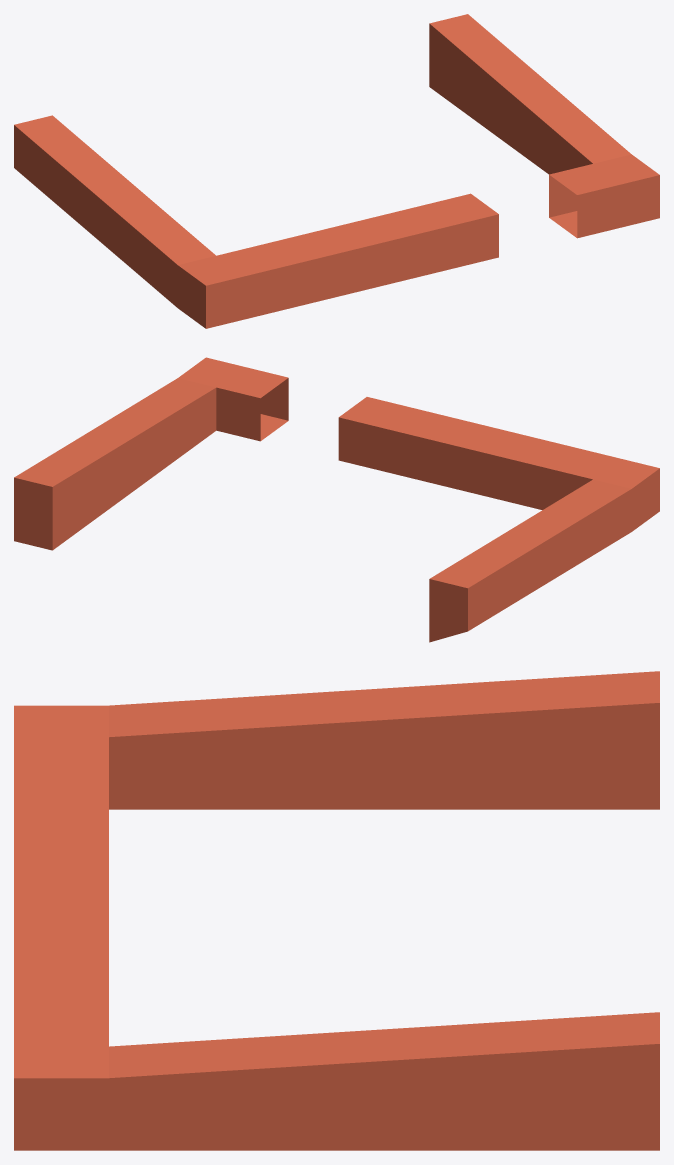
Rendered from CustomerCounter.fbx.
The picture shows the model from 3 angles, top to bottom: view 1: azimuth 30°, elevation 25°; view 2: azimuth 150°, elevation 25°; view 3: azimuth 270°, elevation 25°; orthographic projection. The views are drawn at different scales.
Parts seen in each view (by area): view 1: Cube.002; view 2: Cube.002; view 3: Cube.002.
Part boxes in pixels (x1,y1,x2,y2): Cube.002: [14, 14, 659, 328]; Cube.002: [14, 357, 659, 642]; Cube.002: [14, 671, 659, 1150].
Bounding box in the file's own units: 1177 × 158 × 862.
